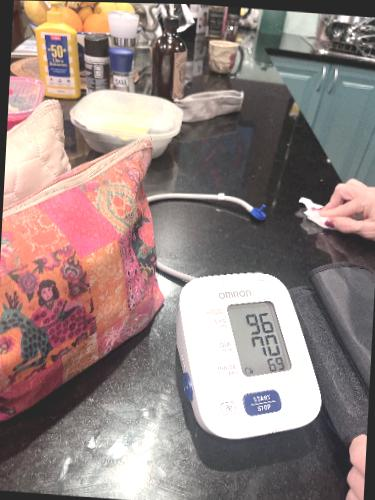bpm: (223, 294, 294, 382)
